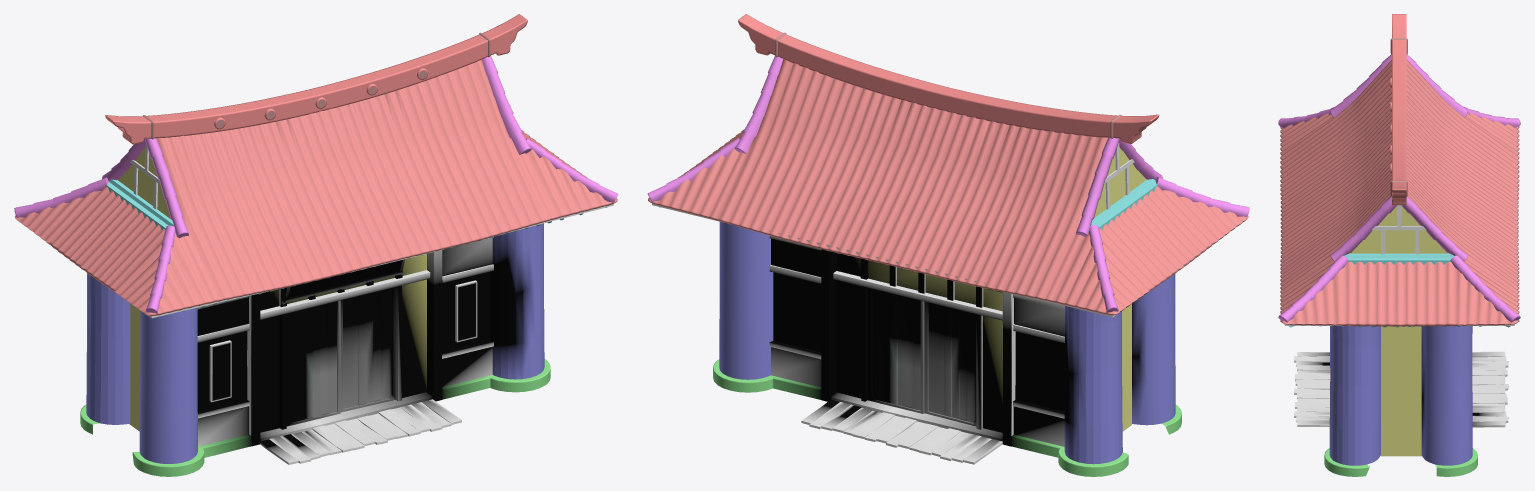
Rendered from SM_ENV_KNVLLG03_AreaD_Hokage_GateA.gltf.
The picture shows the model from 3 angles, left to right: view 1: azimuth 30°, elevation 25°; view 2: azimuth 150°, elevation 25°; view 3: azimuth 270°, elevation 25°; orthographic projection. The views are drawn at different scales.
Parts seen in each view (by area): view 1: SM_ENV_KNVLLG03_AreaD_Hokage_GateA; view 2: SM_ENV_KNVLLG03_AreaD_Hokage_GateA; view 3: SM_ENV_KNVLLG03_AreaD_Hokage_GateA.
Part boxes in pixels (x1,y1,x2,y2): SM_ENV_KNVLLG03_AreaD_Hokage_GateA: [14, 14, 618, 476]; SM_ENV_KNVLLG03_AreaD_Hokage_GateA: [647, 14, 1249, 476]; SM_ENV_KNVLLG03_AreaD_Hokage_GateA: [1278, 14, 1520, 476].
Bounding box in the file's own units: 16.34 × 11.08 × 8.37.
